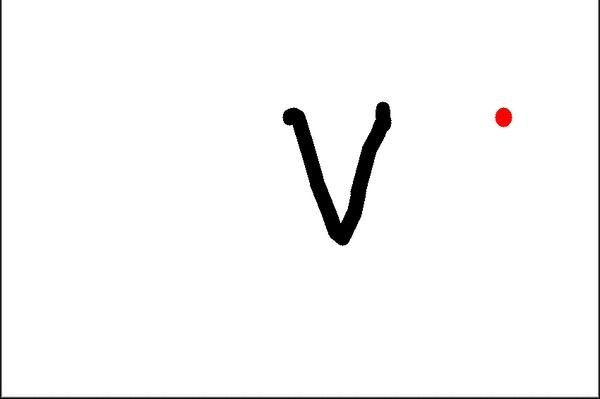V: (273, 100, 395, 249)
